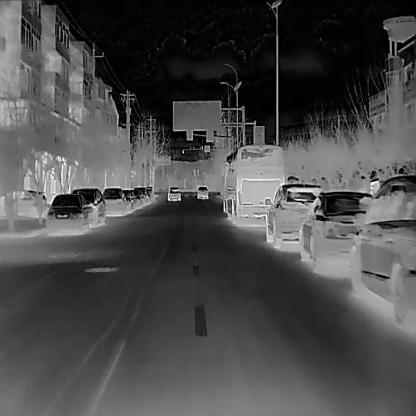car: (349, 173, 415, 331), (298, 189, 378, 279), (223, 142, 283, 228), (264, 181, 324, 250), (0, 187, 47, 221), (46, 193, 88, 231), (72, 186, 107, 227), (103, 186, 127, 216), (120, 190, 136, 212), (166, 184, 180, 201), (196, 184, 208, 199)
